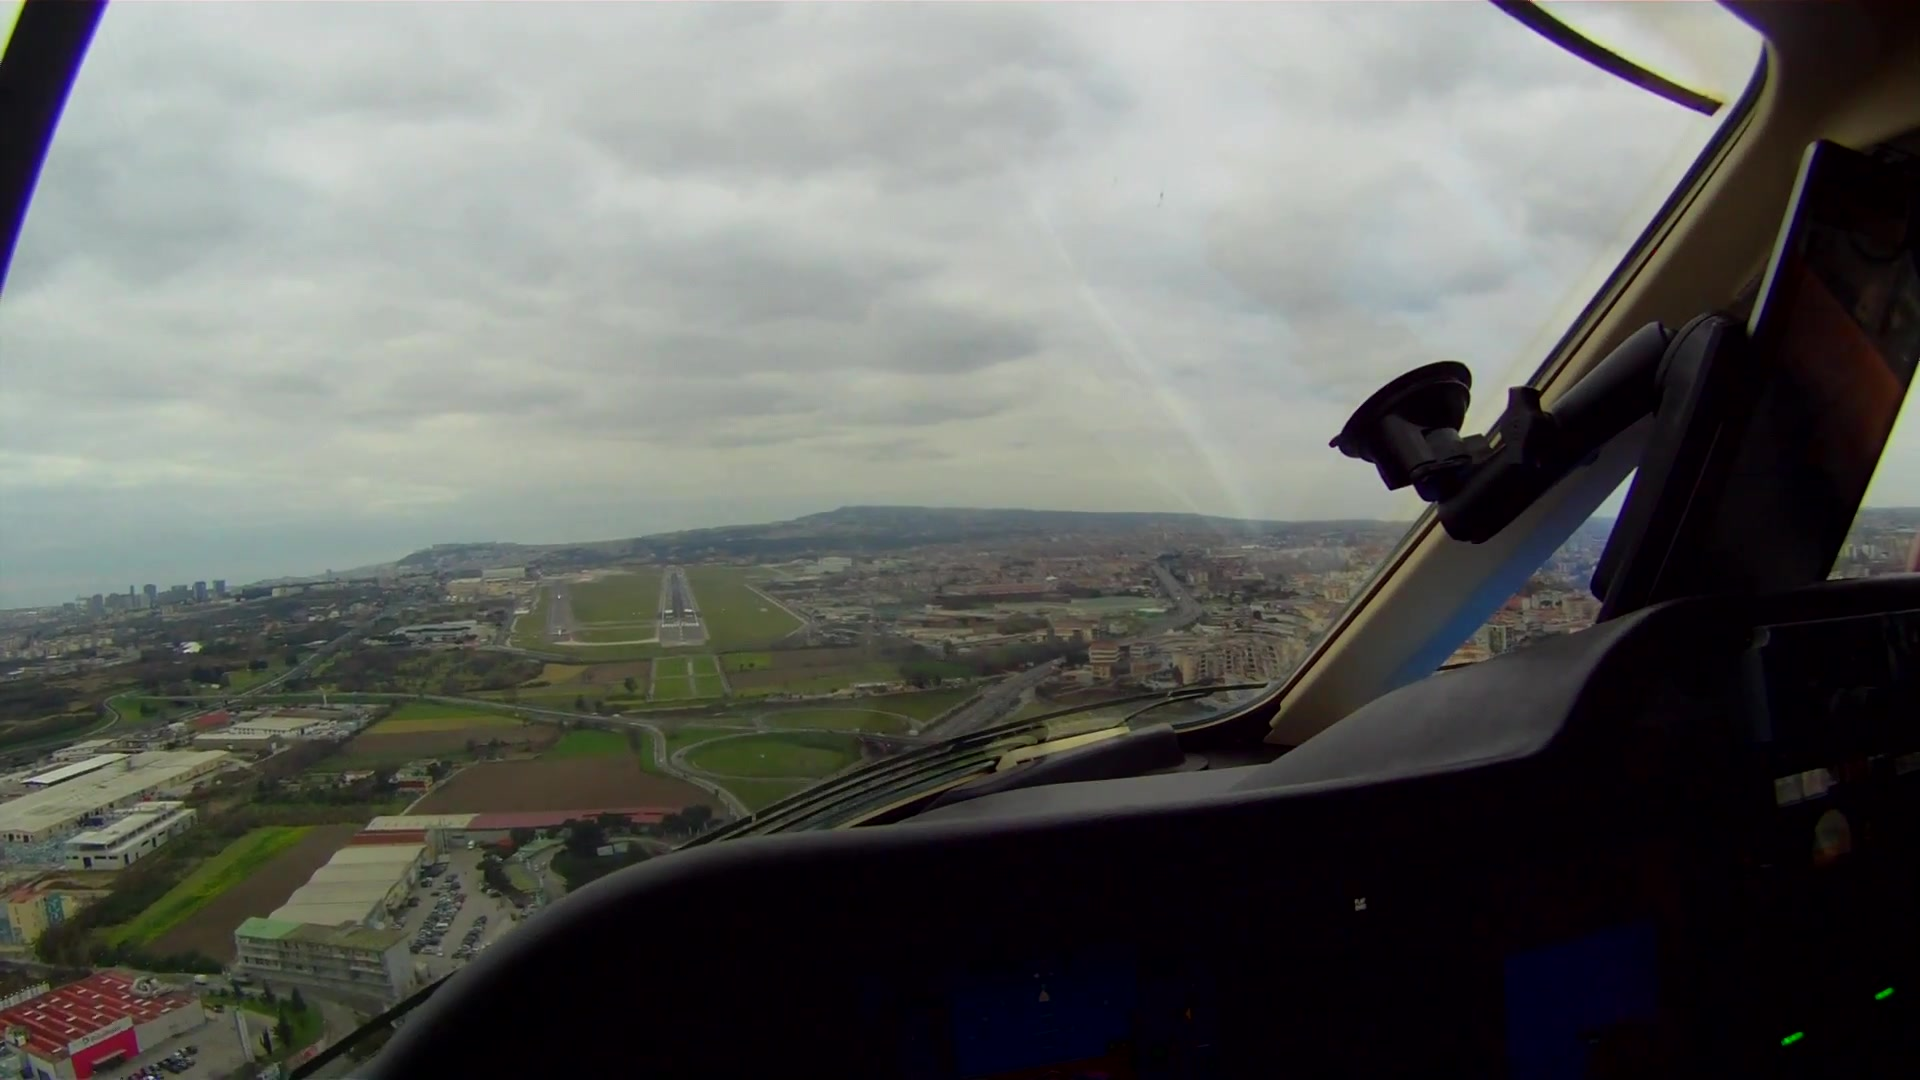runway: (653, 570, 709, 646)
